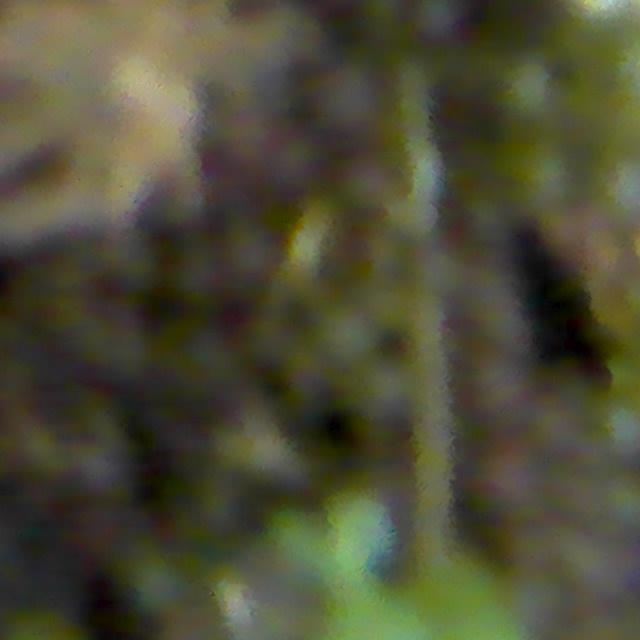SeaGrape: (313, 62, 386, 136), (123, 548, 191, 616), (317, 307, 379, 368), (223, 222, 282, 280), (171, 243, 224, 301), (409, 0, 467, 43)
